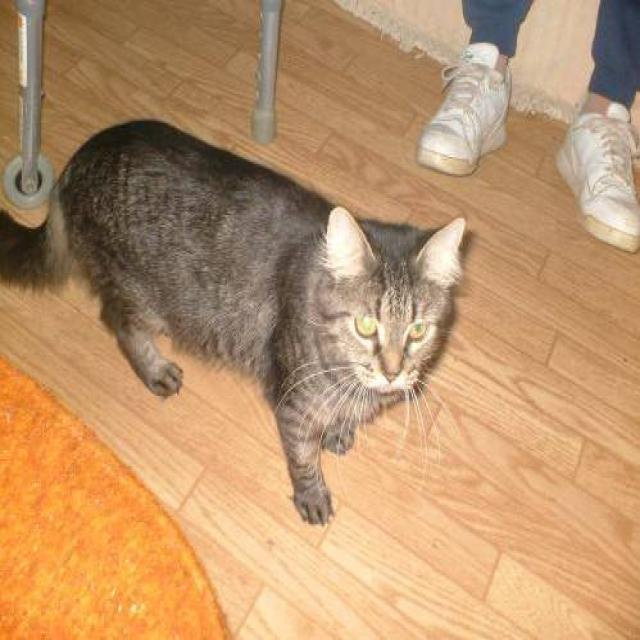cat: (0, 116, 467, 526)
